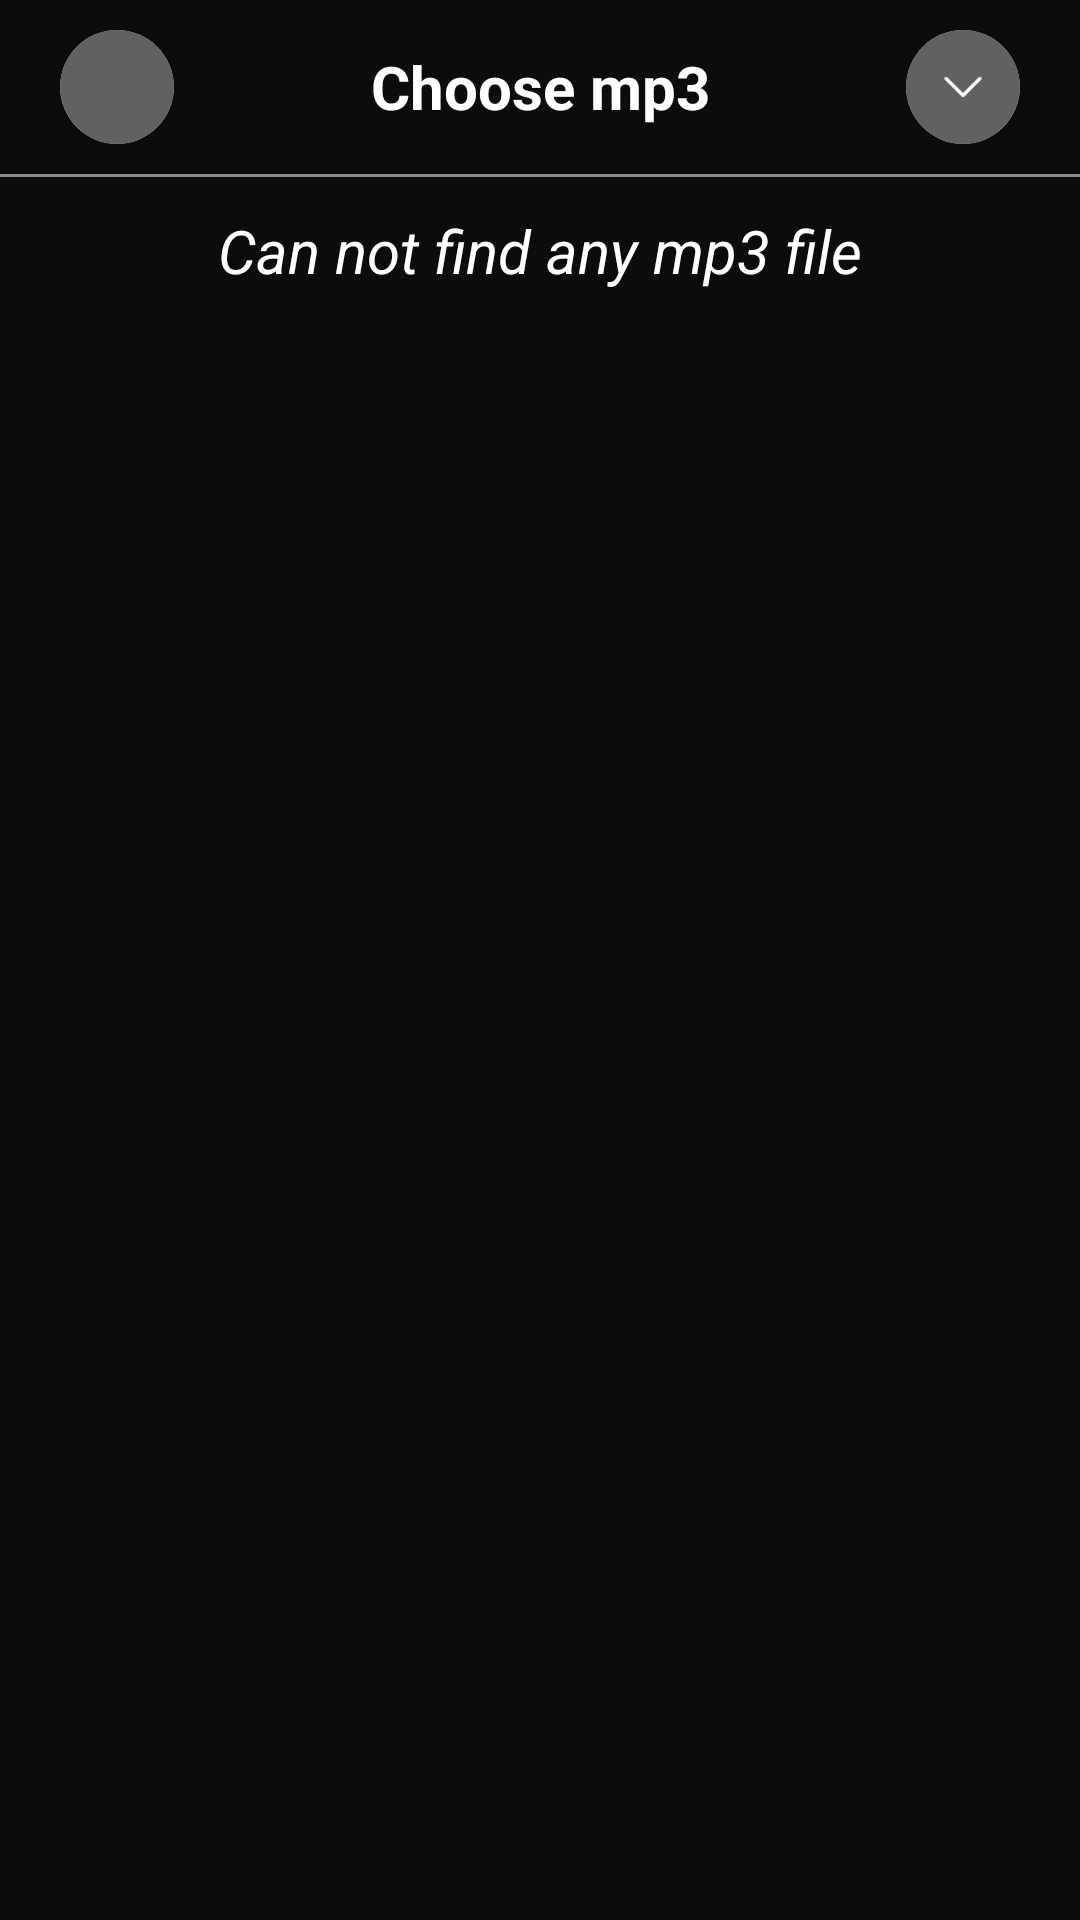

Icon bounding boxes for this 1080w x 1920h phone screenshot, format bbox(x1, y1, x2, y2):
down: bbox(906, 30, 1020, 144)
